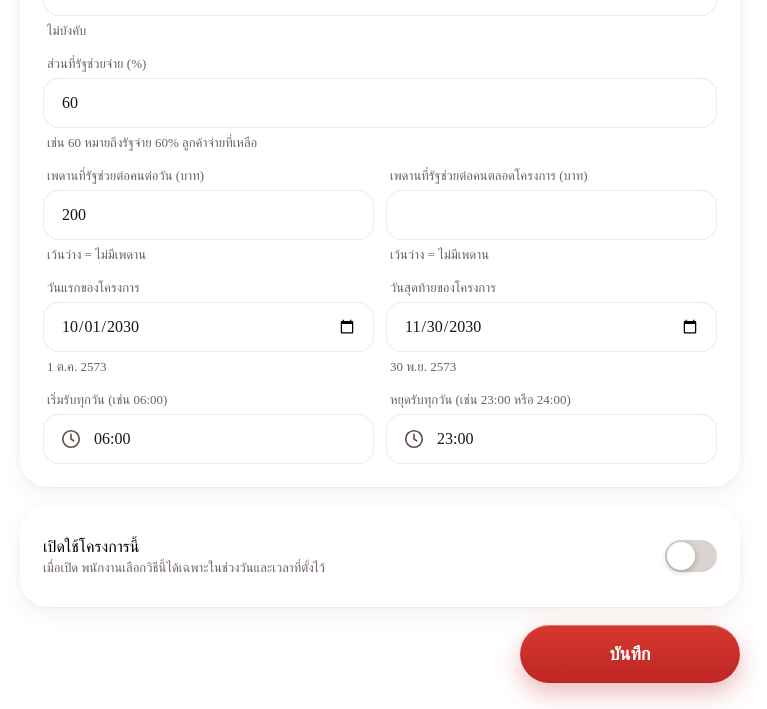
Test: an existing scheme › a refusal from the server (it checks the scheme again) is shown in plain words
(page scrolled)
Click the checkbox labelled "เปิดใช้โครงการนี้" at (691, 556), box [665,540,717,572]
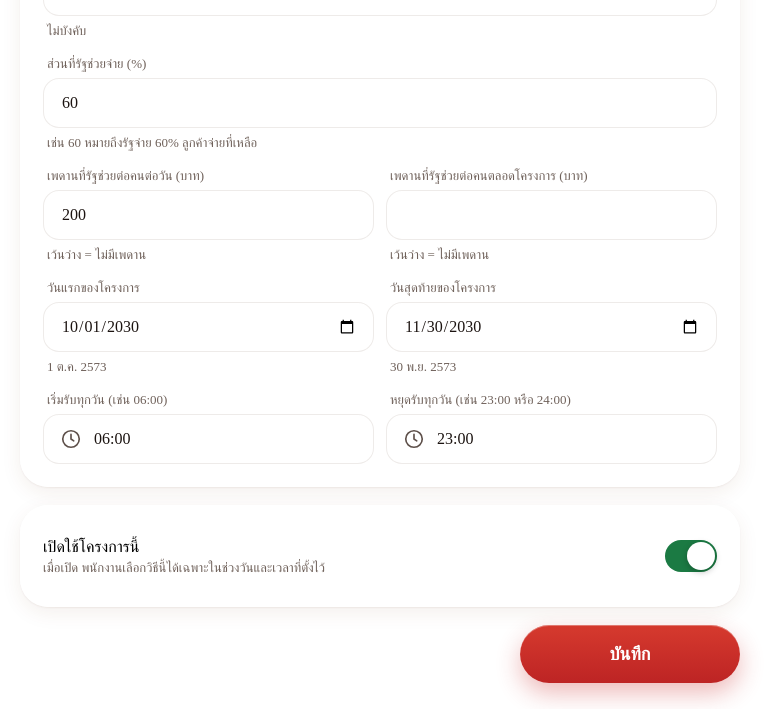
Click the button "บันทึก" at (630, 654), box [520,625,740,683]
(page scrolled)
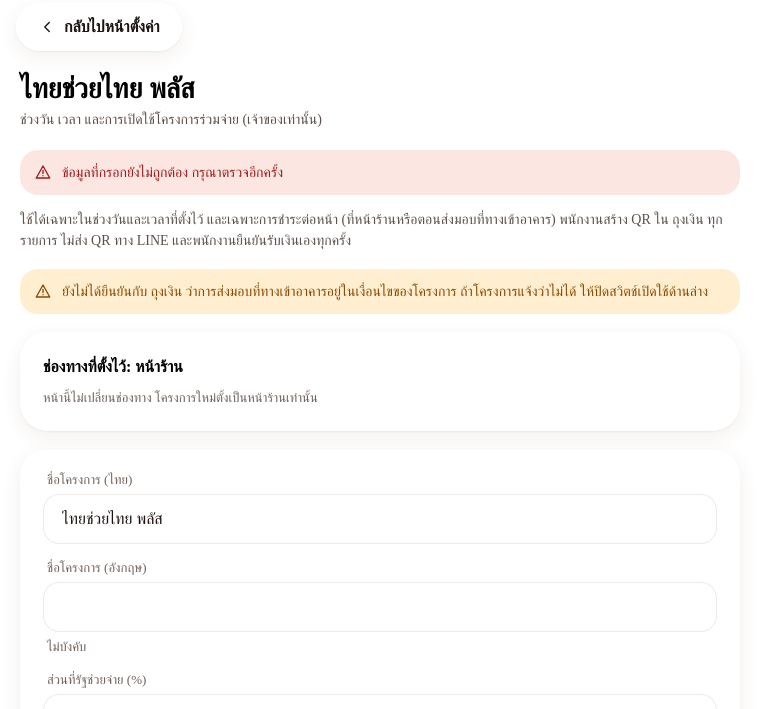
Now the text "ข้อมูลที่กรอกยังไม่ถูกต้อง กรุณาตรวจอีกครั้ง" is shown, box [62,165,283,180]
